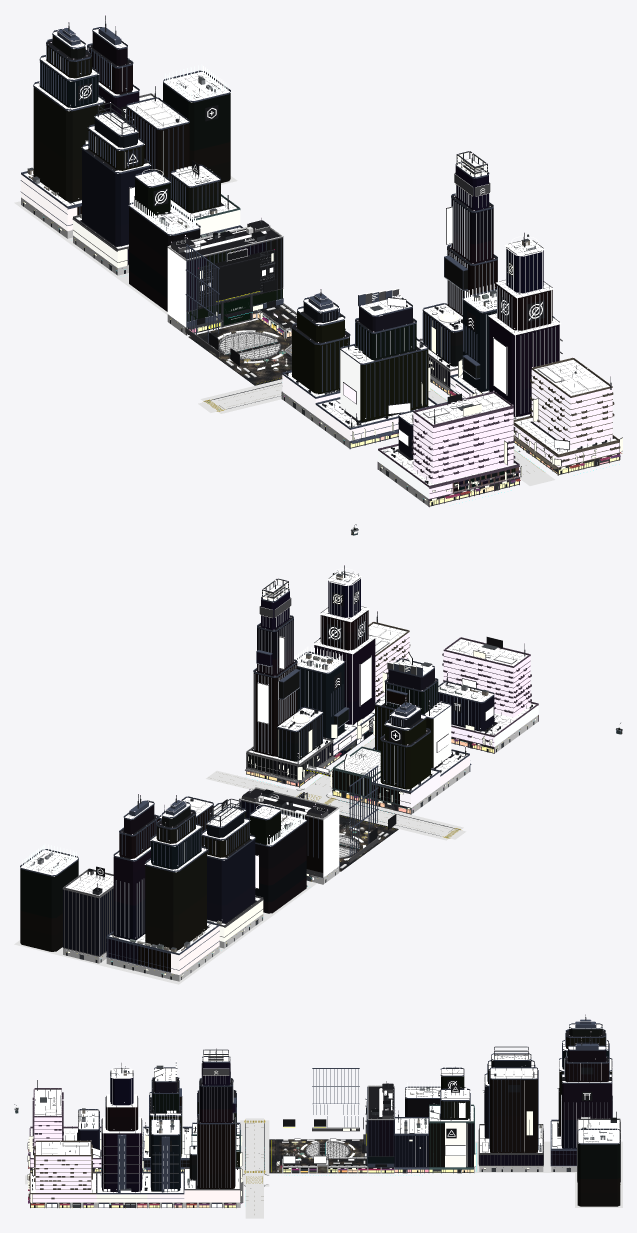
Rendered from world-high-plaza.glb.
The picture shows the model from 3 angles, top to bottom: view 1: azimuth 30°, elevation 25°; view 2: azimuth 150°, elevation 25°; view 3: azimuth 270°, elevation 25°; orthographic projection. The views are drawn at different scales.
Parts seen in each view (by area): view 1: plaza_corporate, plaza_trim, plaza_glow, plaza_facade, plaza_board_frame, plaza_trim_detail, plaza_roof, plaza_concrete, plaza_paint, plaza_metal, plaza_billboard, plaza_asphalt (+7 smaller); view 2: plaza_corporate, plaza_trim, plaza_glow, plaza_facade, plaza_concrete, plaza_asphalt, plaza_board_frame, plaza_roof, plaza_sidewalk, plaza_billboard, plaza_trim_detail, plaza_paint (+5 smaller); view 3: plaza_corporate, plaza_trim, plaza_glow, plaza_facade, plaza_roof, plaza_paint, plaza_asphalt, plaza_board_frame, plaza_trim_detail, plaza_sidewalk, plaza_concrete, plaza_metal (+9 smaller).
Boxes of the visible parts, bbox=[...] form: plaza_corporate: bbox=[33, 32, 559, 491]; plaza_trim: bbox=[21, 27, 619, 507]; plaza_glow: bbox=[24, 14, 616, 485]; plaza_facade: bbox=[21, 174, 619, 498]; plaza_board_frame: bbox=[25, 82, 622, 498]; plaza_trim_detail: bbox=[20, 180, 620, 501]; plaza_roof: bbox=[31, 28, 614, 473]; plaza_concrete: bbox=[21, 197, 515, 506]; plaza_paint: bbox=[188, 304, 543, 478]; plaza_metal: bbox=[68, 15, 620, 485]; plaza_billboard: bbox=[85, 141, 569, 449]; plaza_asphalt: bbox=[198, 383, 554, 485]; plaza_corporate: bbox=[20, 579, 494, 971]; plaza_trim: bbox=[20, 580, 538, 972]; plaza_glow: bbox=[20, 564, 536, 953]; plaza_facade: bbox=[70, 632, 538, 974]; plaza_concrete: bbox=[63, 715, 538, 981]; plaza_asphalt: bbox=[206, 738, 466, 839]; plaza_board_frame: bbox=[70, 590, 502, 973]; plaza_roof: bbox=[20, 571, 517, 950]; plaza_sidewalk: bbox=[14, 743, 491, 984]; plaza_billboard: bbox=[255, 637, 493, 888]; plaza_trim_detail: bbox=[106, 637, 531, 970]; plaza_paint: bbox=[210, 738, 458, 871]; plaza_corporate: bbox=[78, 1028, 620, 1206]; plaza_trim: bbox=[29, 1019, 620, 1207]; plaza_glow: bbox=[30, 1013, 619, 1204]; plaza_facade: bbox=[30, 1117, 576, 1202]; plaza_roof: bbox=[31, 1024, 620, 1192]; plaza_paint: bbox=[246, 1120, 367, 1214]; plaza_asphalt: bbox=[25, 1118, 266, 1218]; plaza_board_frame: bbox=[27, 1042, 594, 1207]; plaza_trim_detail: bbox=[28, 1092, 576, 1207]; plaza_sidewalk: bbox=[33, 1120, 622, 1207]; plaza_concrete: bbox=[29, 1085, 576, 1207]; plaza_metal: bbox=[30, 1014, 616, 1207].
Bounding box in the file's own units: 191 × 133 × 458.
